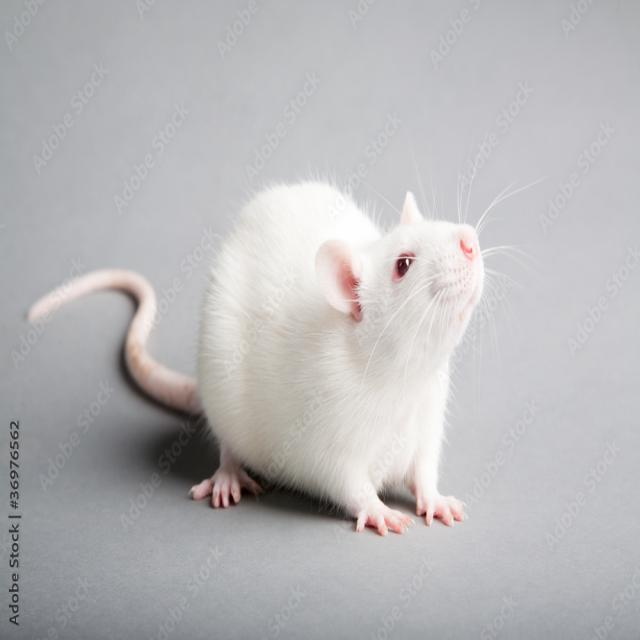rodents: (187, 166, 510, 536)
